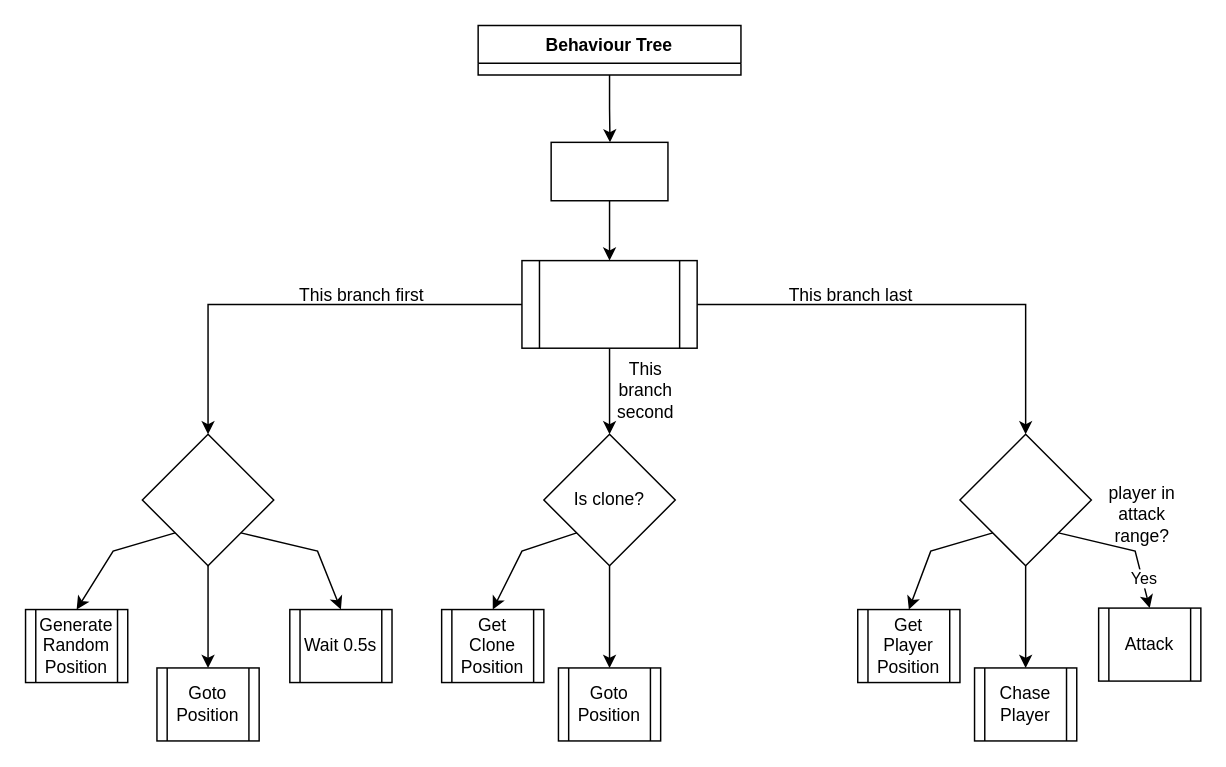
The diagram is 1226 pixels wide and 767 high, and some of its shapes have lost their labels. Each missing label, with the centre of its shape:
"if player is seen" belongs at pixel 1024 499.
"if player isn't seen" belongs at pixel 207 499.
"Root" belongs at pixel 609 171.
"Selector" belongs at pixel 608 303.
